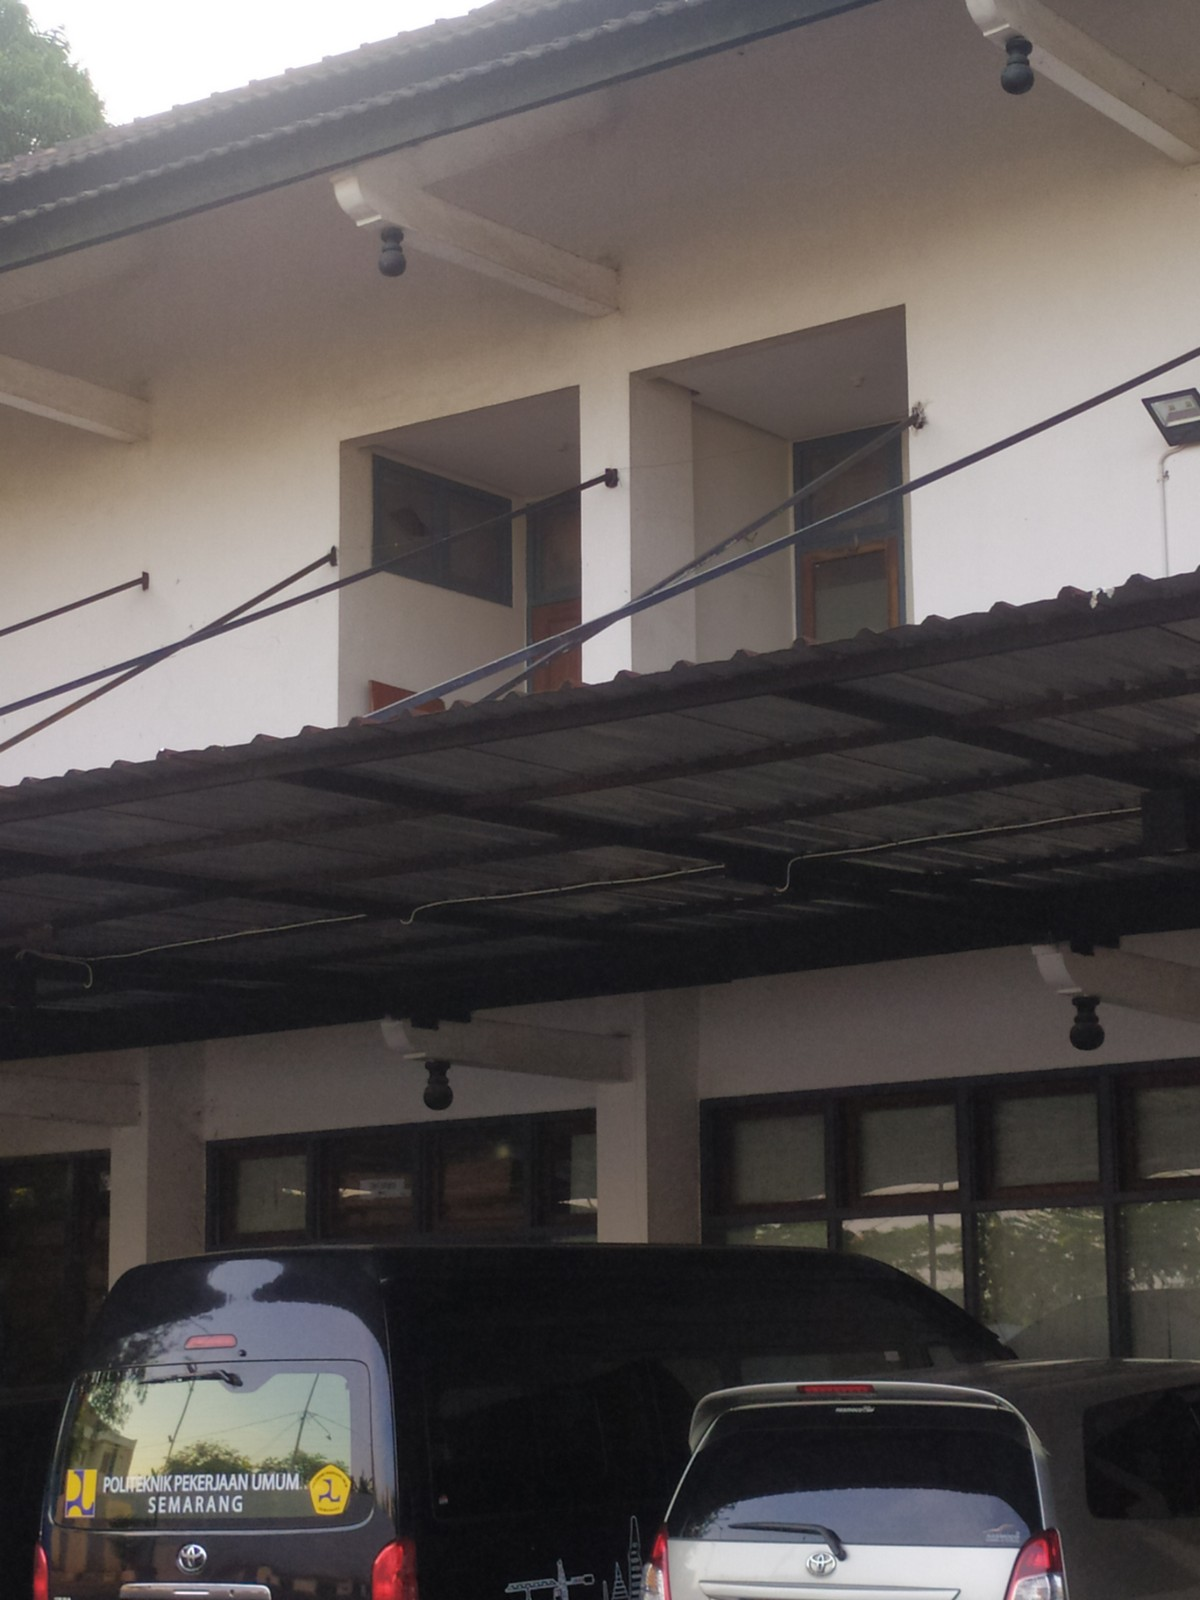concrete beam: (432, 207, 634, 320), (447, 1015, 648, 1091), (10, 348, 153, 449), (8, 1063, 153, 1136)
concrete column: (563, 372, 718, 682), (587, 1002, 708, 1251), (95, 1046, 213, 1269)
